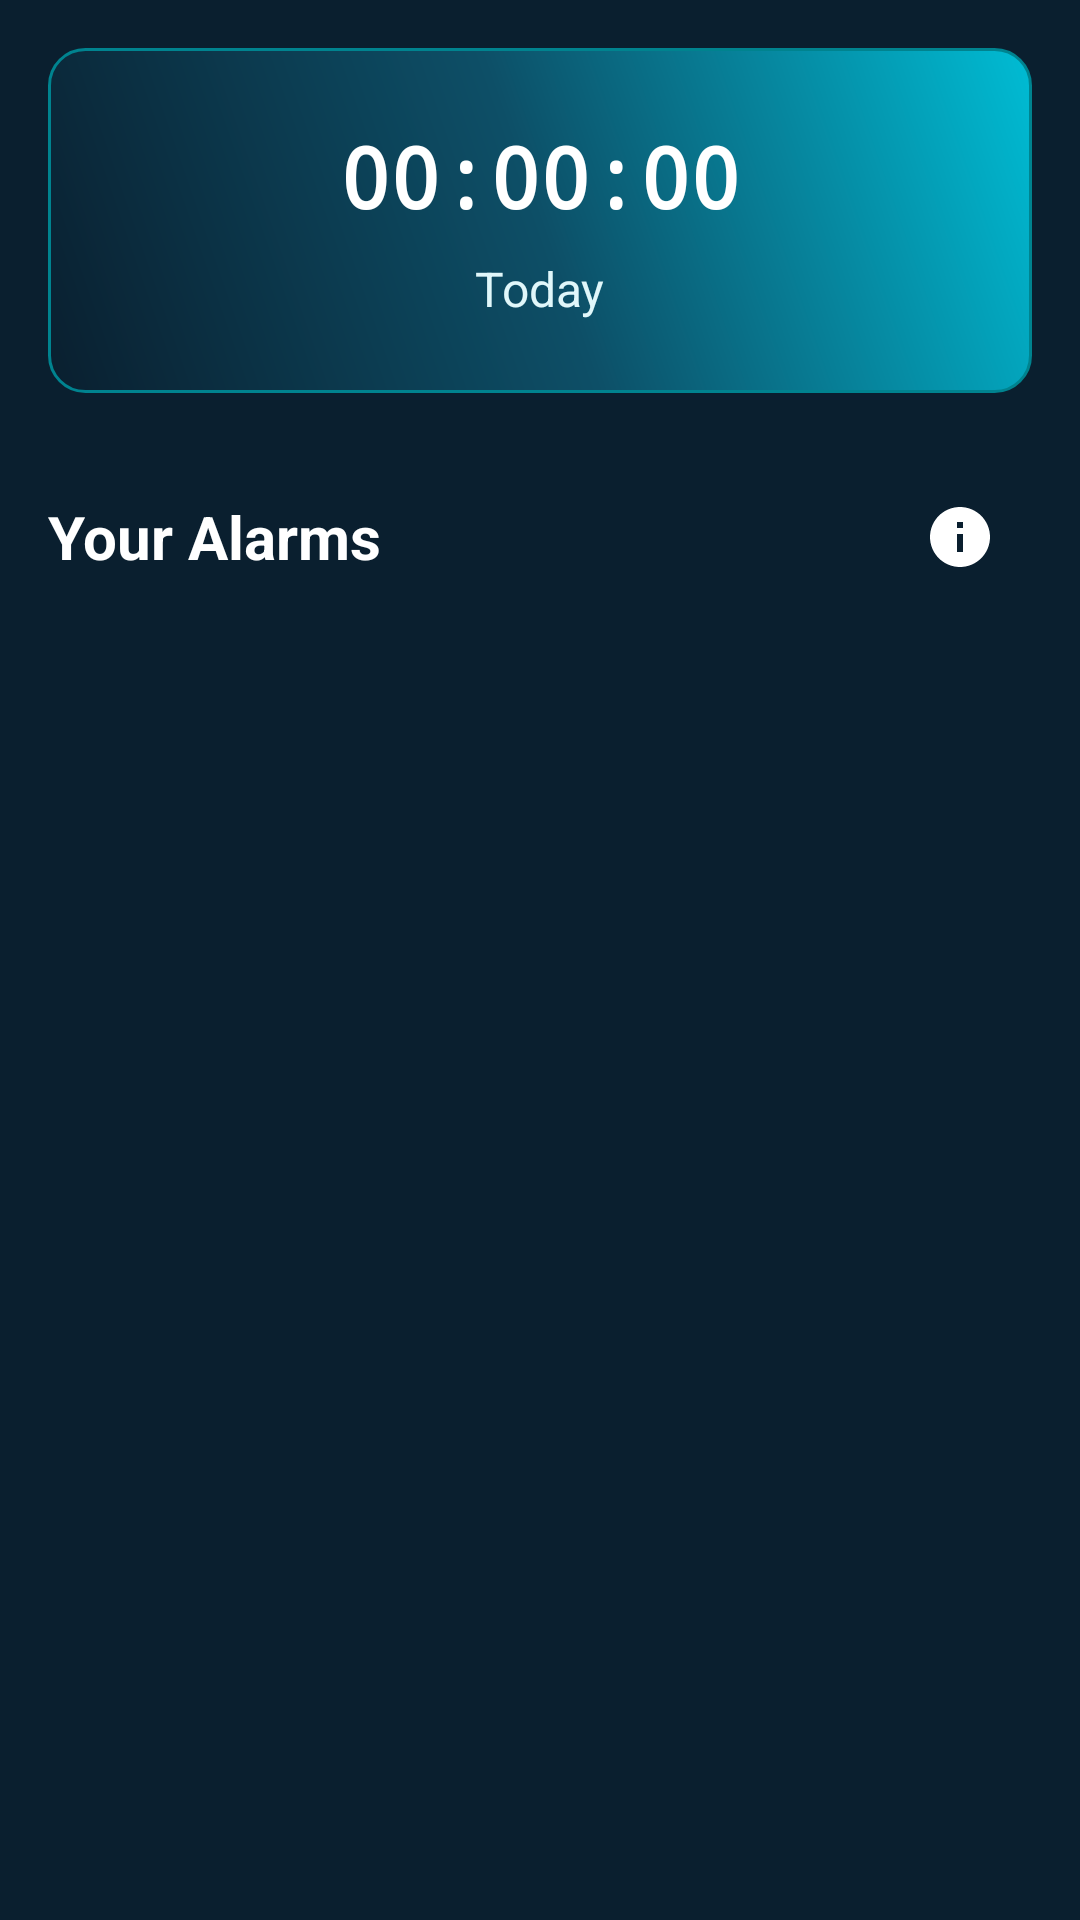

Icon bounding boxes for this 1080 × 1920 phone screenshot, format (x1, y1, x2, y2):
Information: (930, 507, 990, 567)
